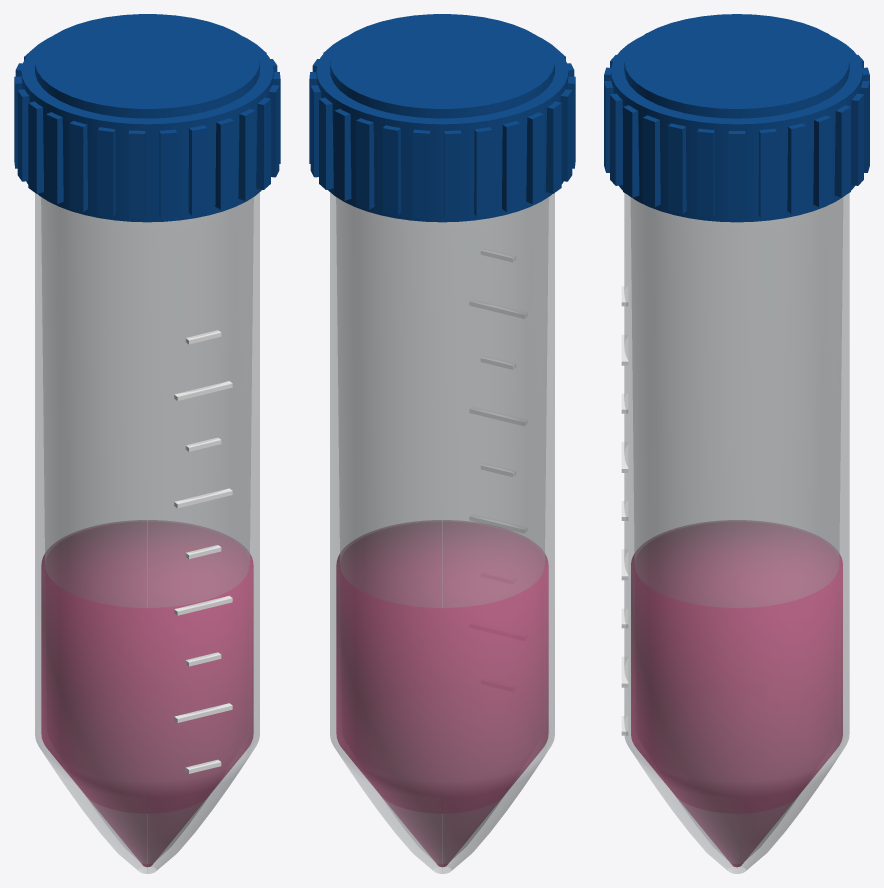
The model's file is falcon-50mlafter.glb.
The picture shows the model from 3 angles, left to right: view 1: azimuth 30°, elevation 25°; view 2: azimuth 150°, elevation 25°; view 3: azimuth 270°, elevation 25°; orthographic projection.
Visible parts, largest first — view 1: tube_1_shell, tube_1_medium, cap_1_top, cap_1_body, cap_1_rib_11, cap_1_rib_12, cap_1_rib_8, cap_1_rib_7, cap_1_rib_9, cap_1_rib_10, cap_1_rib_13, cap_1_rib_6 (+4 smaller); view 2: tube_1_shell, tube_1_medium, cap_1_top, cap_1_body, cap_1_rib_16, cap_1_rib_17, cap_1_rib_20, cap_1_rib_21, cap_1_rib_19, cap_1_rib_18, cap_1_rib_15, cap_1_rib_22 (+4 smaller); view 3: tube_1_shell, tube_1_medium, cap_1_top, cap_1_body, cap_1_rib_3, cap_1_rib_25, cap_1_rib_4, cap_1_rib_24, cap_1_rib_2, cap_1_rib_26, cap_1_rib_1, cap_1_rib_5 (+5 smaller).
Boxes of the visible parts, left/top/right/bottom form: tube_1_shell: left=35, top=192, right=259, bottom=873; tube_1_medium: left=41, top=520, right=253, bottom=867; cap_1_top: left=35, top=14, right=259, bottom=118; cap_1_body: left=21, top=36, right=273, bottom=222; cap_1_rib_11: left=97, top=127, right=115, bottom=216; cap_1_rib_12: left=69, top=121, right=87, bottom=211; cap_1_rib_8: left=188, top=125, right=206, bottom=215; cap_1_rib_7: left=215, top=118, right=233, bottom=209; cap_1_rib_9: left=159, top=129, right=176, bottom=218; cap_1_rib_10: left=128, top=130, right=145, bottom=218; cap_1_rib_13: left=46, top=112, right=63, bottom=203; cap_1_rib_6: left=238, top=109, right=255, bottom=200; tube_1_shell: left=330, top=192, right=554, bottom=873; tube_1_medium: left=336, top=520, right=548, bottom=867; cap_1_top: left=330, top=14, right=554, bottom=118; cap_1_body: left=316, top=36, right=568, bottom=222; cap_1_rib_16: left=502, top=121, right=520, bottom=211; cap_1_rib_17: left=474, top=127, right=492, bottom=216; cap_1_rib_20: left=383, top=125, right=401, bottom=215; cap_1_rib_21: left=356, top=118, right=374, bottom=209; cap_1_rib_19: left=413, top=129, right=430, bottom=218; cap_1_rib_18: left=444, top=130, right=461, bottom=218; cap_1_rib_15: left=526, top=112, right=543, bottom=203; cap_1_rib_22: left=334, top=109, right=351, bottom=200; tube_1_shell: left=624, top=193, right=849, bottom=873; tube_1_medium: left=631, top=520, right=842, bottom=867; cap_1_top: left=624, top=14, right=849, bottom=118; cap_1_body: left=611, top=36, right=862, bottom=222; cap_1_rib_3: left=668, top=123, right=686, bottom=213; cap_1_rib_25: left=787, top=123, right=805, bottom=213; cap_1_rib_4: left=642, top=115, right=660, bottom=206; cap_1_rib_24: left=813, top=115, right=831, bottom=206; cap_1_rib_2: left=697, top=128, right=715, bottom=217; cap_1_rib_26: left=758, top=128, right=776, bottom=217; cap_1_rib_1: left=728, top=131, right=745, bottom=218; cap_1_rib_5: left=623, top=105, right=639, bottom=197.
Bounding box in the file's own units: 0.0354 × 0.1189 × 0.0354.
